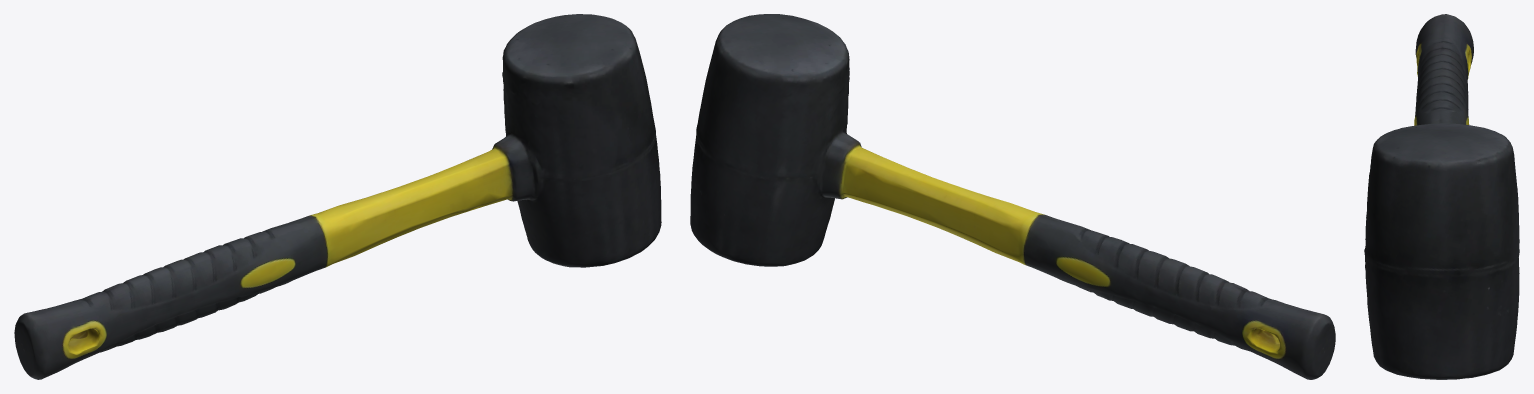
Rendered from Cole_Hardware_Hammer_Black.glb.
3 renders of one model, left to right at view 1: azimuth 30°, elevation 25°; view 2: azimuth 150°, elevation 25°; view 3: azimuth 270°, elevation 25°, orthographic. The views are drawn at different scales.
Visible parts, largest first — view 1: Cole_Hardware_Hammer_Black; view 2: Cole_Hardware_Hammer_Black; view 3: Cole_Hardware_Hammer_Black.
Boxes of the visible parts, x1=… form: Cole_Hardware_Hammer_Black: x1=14, y1=14, x2=661, y2=379; Cole_Hardware_Hammer_Black: x1=690, y1=14, x2=1335, y2=379; Cole_Hardware_Hammer_Black: x1=1364, y1=14, x2=1519, y2=379.
Size of the model in its own units: 0.2917 by 0.096 by 0.06.
1 material, 1 textured.
